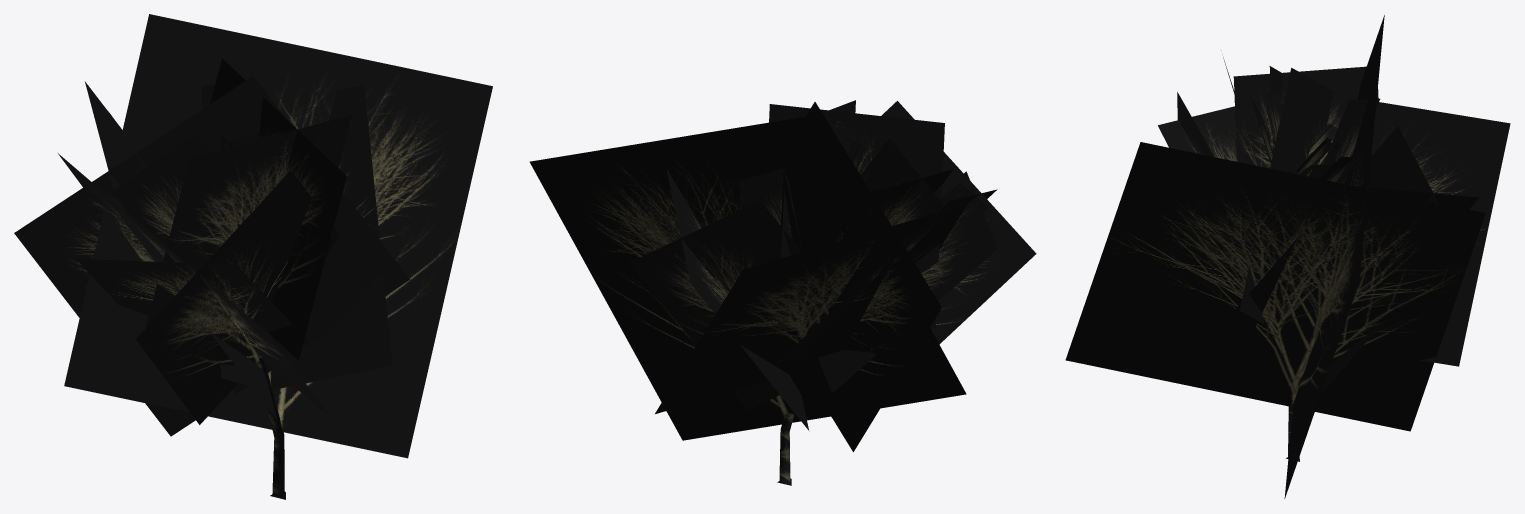
The model's file is elm_spring_winter.glb.
3 renders of one model, left to right at view 1: azimuth 30°, elevation 25°; view 2: azimuth 150°, elevation 25°; view 3: azimuth 270°, elevation 25°, orthographic. The views are drawn at different scales.
Visible parts, largest first — view 1: 2_Leaves, 1_Trunk; view 2: 2_Leaves, 1_Trunk; view 3: 2_Leaves.
Boxes of the visible parts, <box> form: 2_Leaves: <box>14,14,492,458</box>; 1_Trunk: <box>257,357,285,499</box>; 2_Leaves: <box>529,100,1036,451</box>; 1_Trunk: <box>777,413,794,485</box>; 2_Leaves: <box>1065,15,1510,498</box>.
Size of the model in its own units: 237 by 225 by 221.
Materials: 1 (1 with a texture image).
